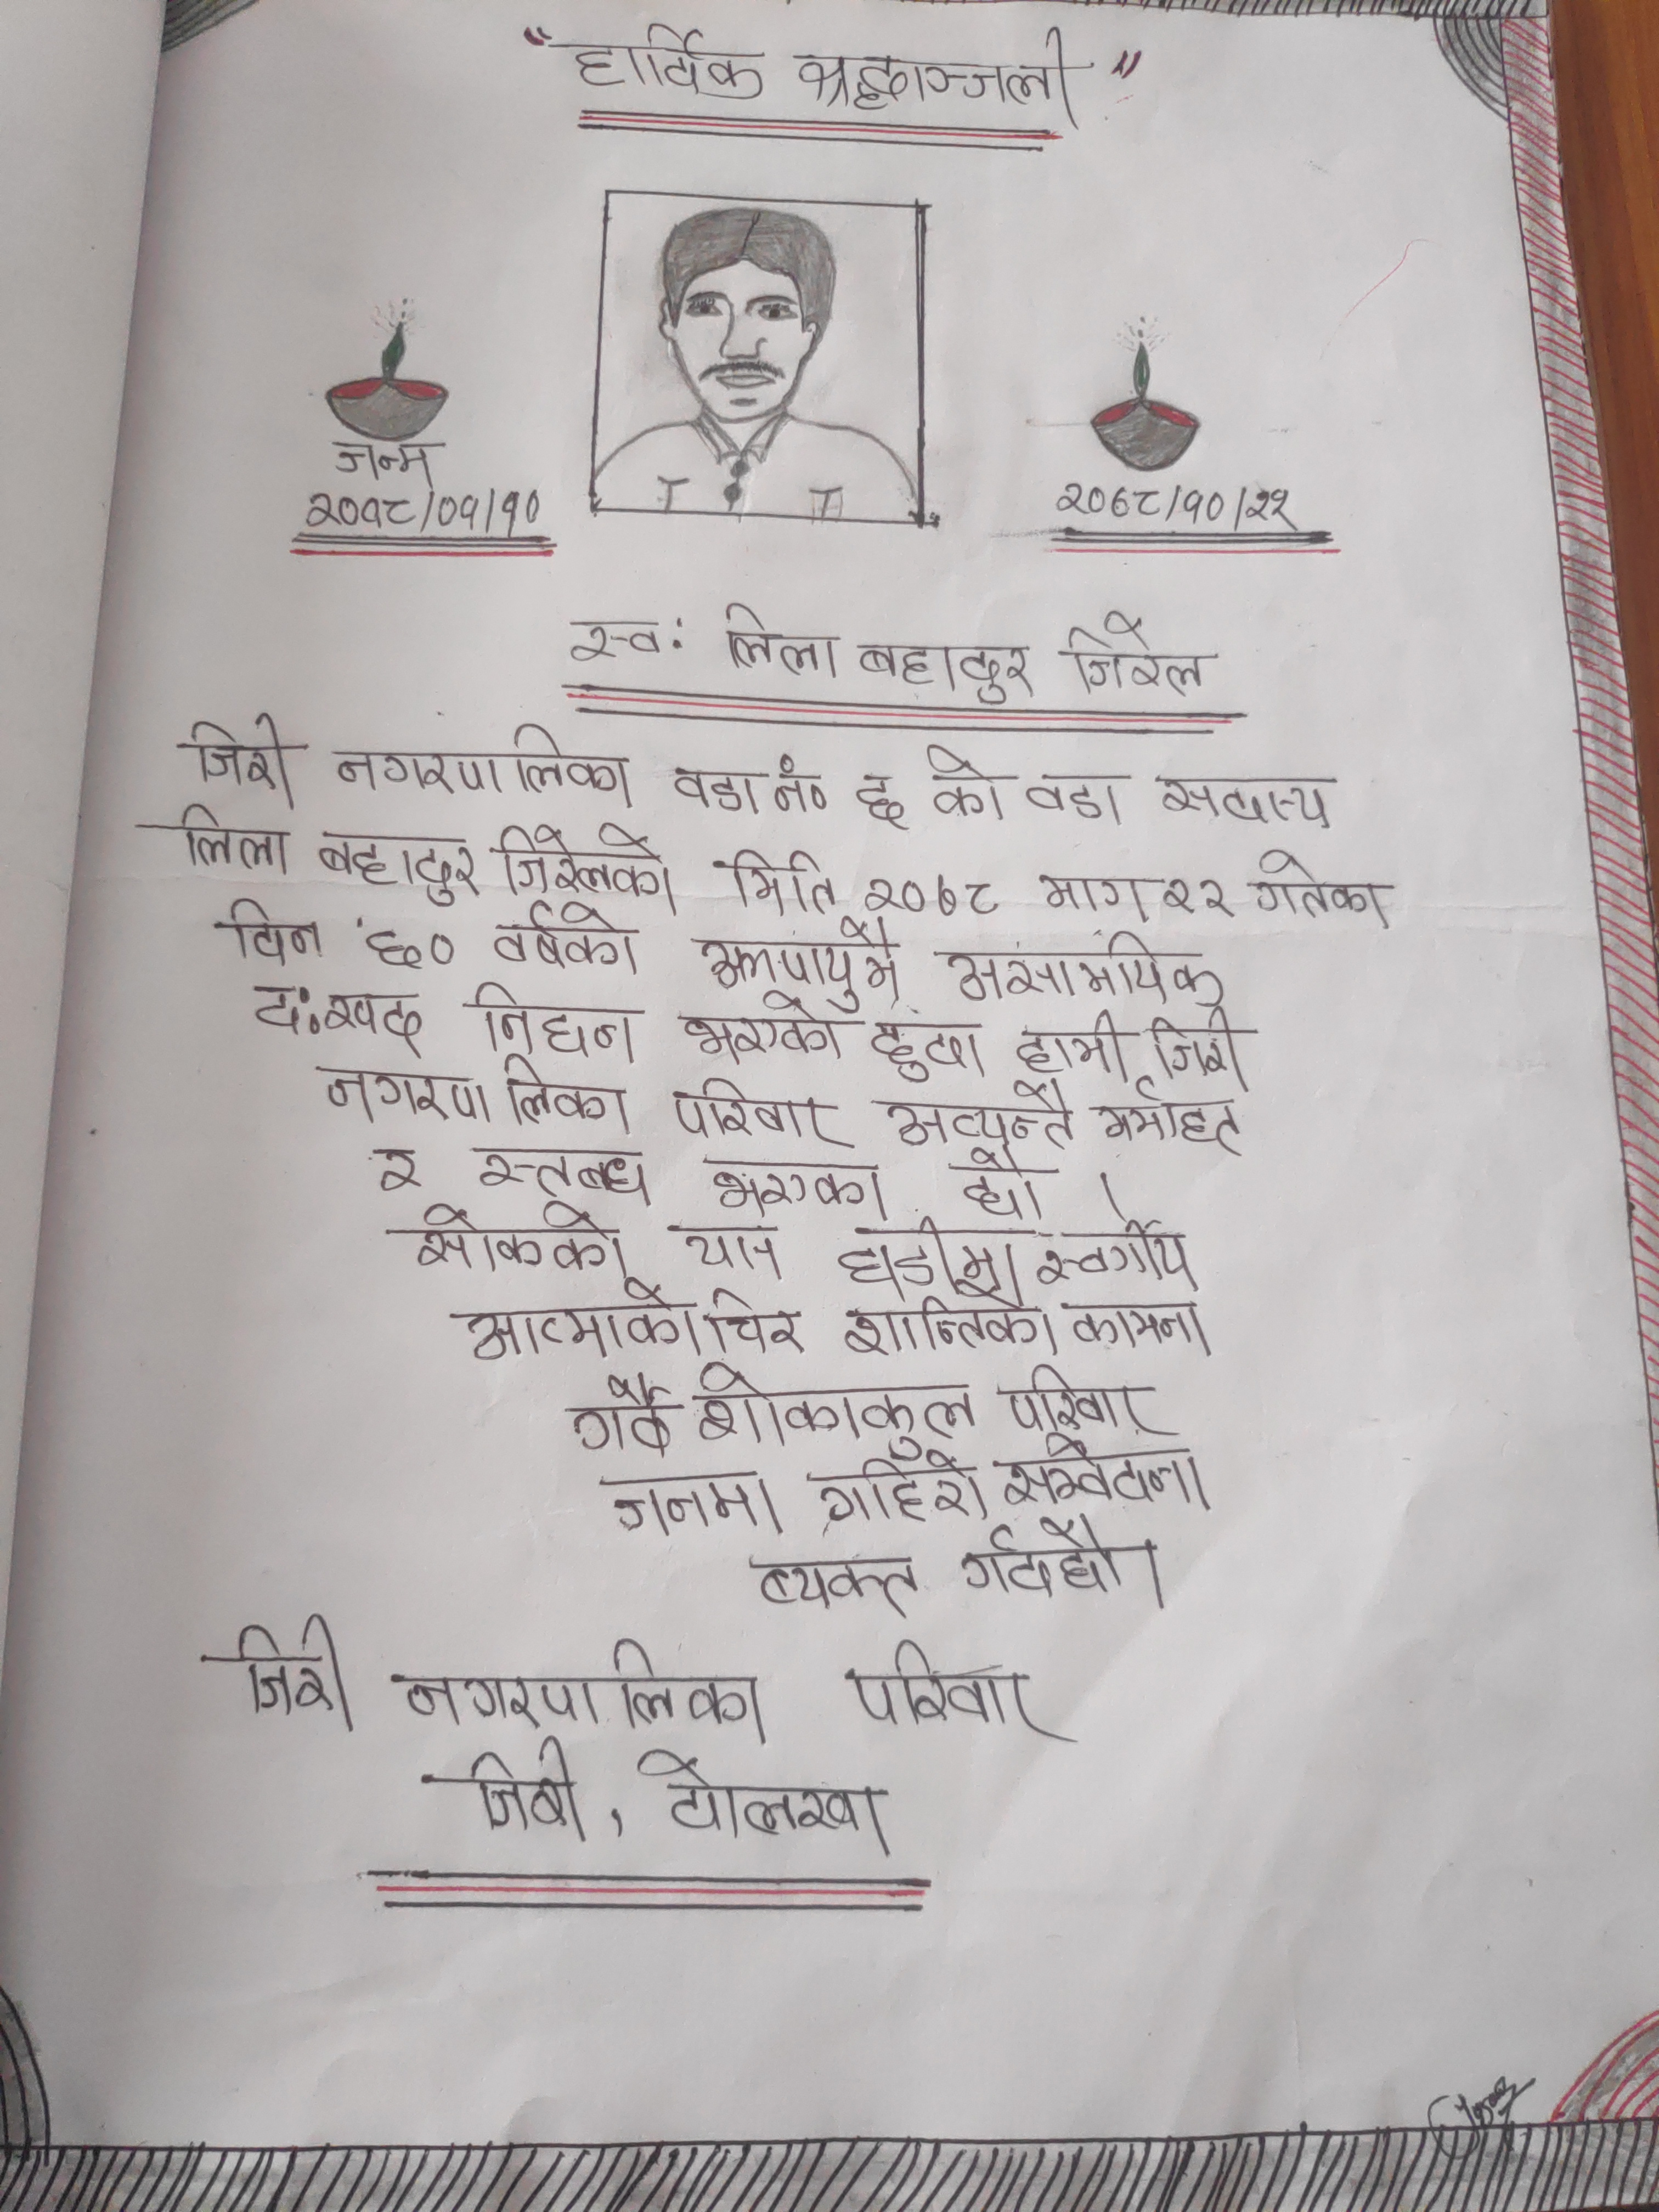text: (389, 1634, 765, 1737), (626, 1745, 908, 1857), (788, 26, 1094, 127), (685, 1360, 988, 1458), (331, 721, 636, 806), (842, 1635, 1068, 1745), (934, 921, 1230, 1003), (451, 1285, 697, 1366), (387, 1202, 634, 1278), (1002, 1430, 1218, 1514), (493, 812, 678, 907), (432, 1738, 591, 1848), (561, 23, 769, 103), (699, 921, 901, 1003), (221, 1611, 354, 1735), (836, 1285, 1065, 1357), (953, 1519, 1134, 1602), (240, 975, 436, 1052), (1060, 606, 1218, 700), (467, 984, 650, 1064), (312, 826, 483, 911), (666, 1076, 857, 1151), (826, 1219, 1018, 1292), (695, 1150, 901, 1217), (592, 1465, 788, 1536), (999, 1362, 1175, 1439), (467, 1137, 660, 1207), (1239, 846, 1405, 927), (809, 1458, 992, 1529), (315, 1052, 491, 1125), (884, 1089, 1086, 1150), (1032, 1223, 1208, 1292), (854, 637, 1039, 704), (1049, 481, 1305, 528), (486, 900, 641, 977), (298, 482, 551, 529), (1150, 770, 1338, 833), (676, 1001, 845, 1071), (176, 709, 303, 798), (746, 1555, 931, 1613), (716, 599, 840, 685), (565, 1371, 683, 1460), (160, 798, 296, 874), (716, 836, 840, 920), (497, 1054, 633, 1129), (1065, 1291, 1222, 1353), (1100, 1089, 1249, 1153), (1011, 1005, 1136, 1078), (1028, 857, 1164, 921), (870, 1019, 985, 1089), (702, 1287, 812, 1359), (854, 862, 999, 916), (218, 894, 329, 963), (1148, 1003, 1248, 1080), (918, 737, 1004, 824), (955, 1146, 1049, 1221), (1021, 763, 1136, 824), (660, 752, 762, 820), (357, 914, 464, 977), (676, 1221, 782, 1282), (322, 434, 450, 479), (561, 611, 666, 665), (849, 758, 922, 833), (765, 745, 830, 817), (1159, 871, 1236, 928), (361, 1141, 432, 1198)
